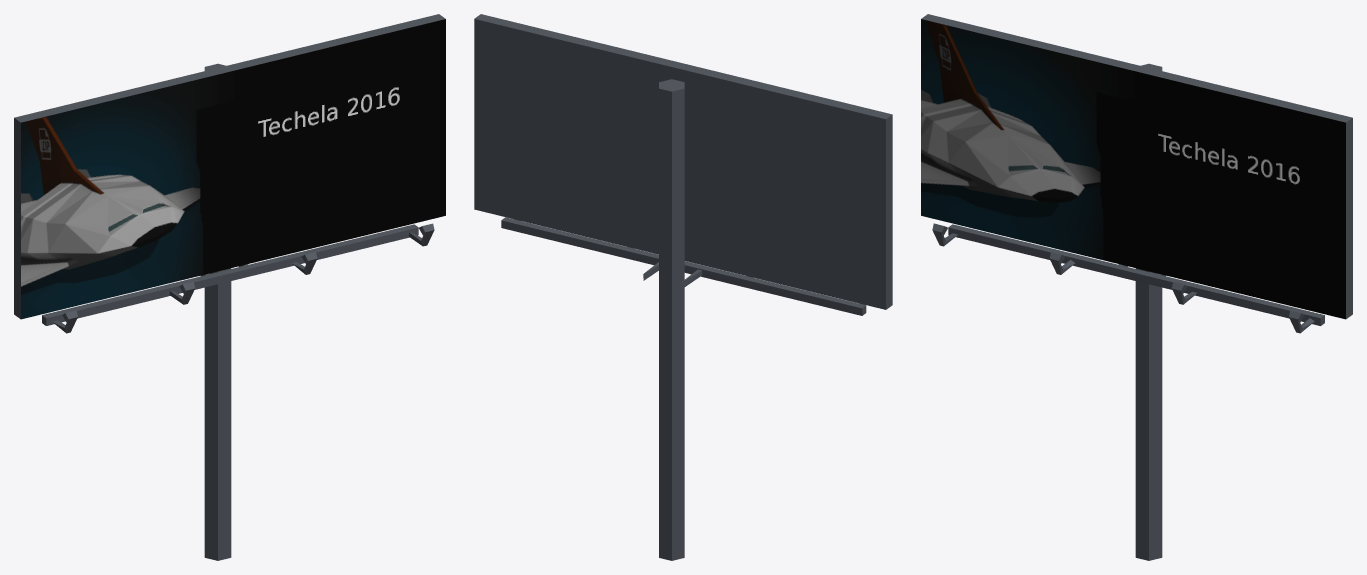
The model's file is billboard.dae.
3 renders of one model, left to right at view 1: azimuth 30°, elevation 25°; view 2: azimuth 150°, elevation 25°; view 3: azimuth 330°, elevation 25°, orthographic. The views are drawn at different scales.
Visible parts, largest first — view 1: billboard_Main; view 2: billboard_Main; view 3: billboard_Main.
Part boxes in pixels (x1,y1,x2,y2): billboard_Main: [14, 14, 445, 560]; billboard_Main: [474, 14, 892, 560]; billboard_Main: [921, 14, 1352, 560].
Size of the model in its own units: 7.3 by 1.3 by 8.12.
3 materials, 1 textured.
